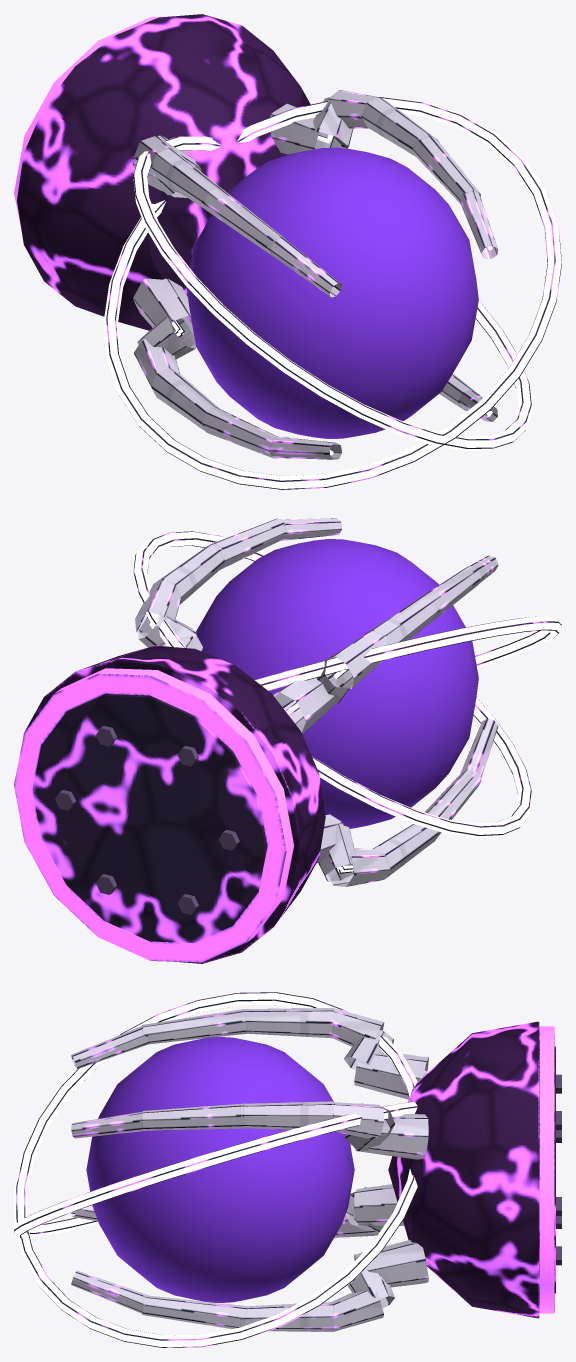
The model's file is motor_gravitacional_t5.fbx.
3 views of the same model, one above another, from view 1: azimuth 30°, elevation 25°; view 2: azimuth 150°, elevation 25°; view 3: azimuth 270°, elevation 25° (orthographic). The views are drawn at different scales.
Visible parts, largest first — view 1: motor_gravitacional_t5.001, motor_gravitacional_t5_cristal, motor_gravitacional_t5_orbita_neon, motor_gravitacional_t5_orbita; view 2: motor_gravitacional_t5.001, motor_gravitacional_t5_cristal, motor_gravitacional_t5_orbita_neon, motor_gravitacional_t5_orbita; view 3: motor_gravitacional_t5.001, motor_gravitacional_t5_cristal, motor_gravitacional_t5_orbita_neon, motor_gravitacional_t5_orbita.
Boxes of the visible parts, <box> form: motor_gravitacional_t5.001: <box>14,14,497,459</box>; motor_gravitacional_t5_cristal: <box>186,147,478,438</box>; motor_gravitacional_t5_orbita_neon: <box>103,97,561,488</box>; motor_gravitacional_t5_orbita: <box>106,97,561,489</box>; motor_gravitacional_t5.001: <box>14,518,498,963</box>; motor_gravitacional_t5_cristal: <box>196,539,478,828</box>; motor_gravitacional_t5_orbita_neon: <box>133,532,561,837</box>; motor_gravitacional_t5_orbita: <box>133,531,561,835</box>; motor_gravitacional_t5.001: <box>71,1008,561,1331</box>; motor_gravitacional_t5_cristal: <box>86,1037,354,1302</box>; motor_gravitacional_t5_orbita_neon: <box>14,992,417,1347</box>; motor_gravitacional_t5_orbita: <box>14,992,417,1347</box>.
Size of the model in its own units: 3.21 by 2.5 by 4.57.
